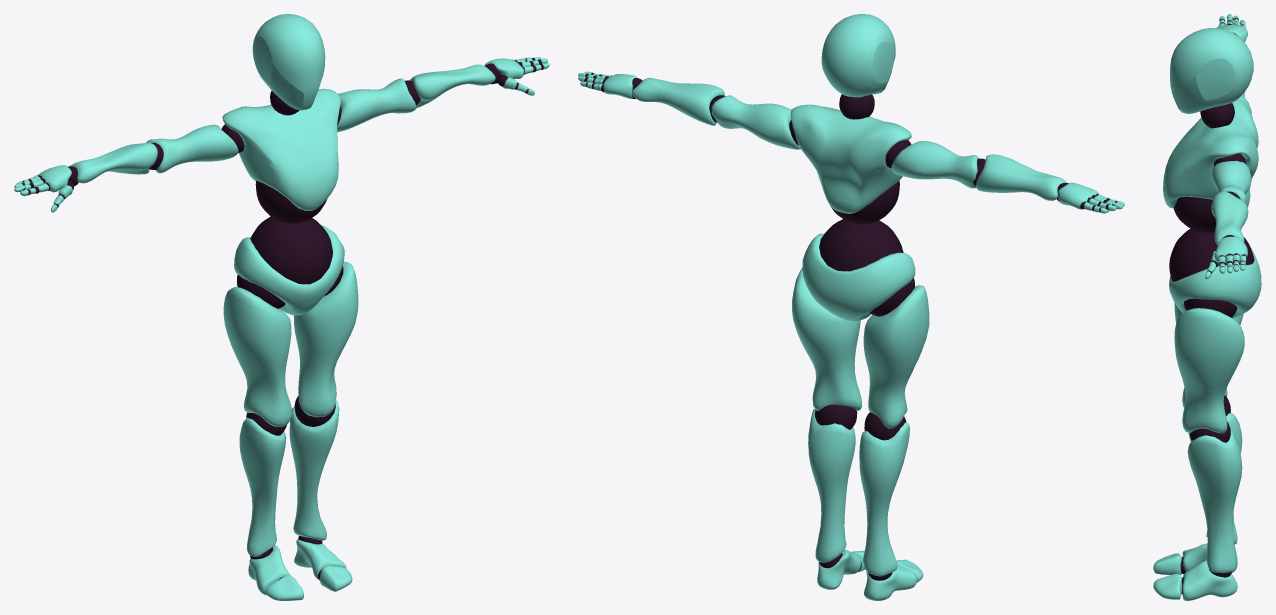
The model's file is mesh-x-bot.glb.
3 views of the same model, side by side, from view 1: azimuth 30°, elevation 25°; view 2: azimuth 150°, elevation 25°; view 3: azimuth 270°, elevation 25° (orthographic). The views are drawn at different scales.
Visible parts, largest first — view 1: Beta_Surface, Beta_Joints; view 2: Beta_Surface, Beta_Joints; view 3: Beta_Surface, Beta_Joints.
Part boxes in pixels (left/top/right/bottom): Beta_Surface: left=14, top=14, right=549, bottom=600; Beta_Joints: left=21, top=58, right=543, bottom=579; Beta_Surface: left=578, top=14, right=1124, bottom=600; Beta_Joints: left=584, top=72, right=1117, bottom=580; Beta_Surface: left=1153, top=14, right=1261, bottom=600; Beta_Joints: left=1169, top=18, right=1254, bottom=594.
Size of the model in its own units: 1.13 by 1.13 by 0.2.
